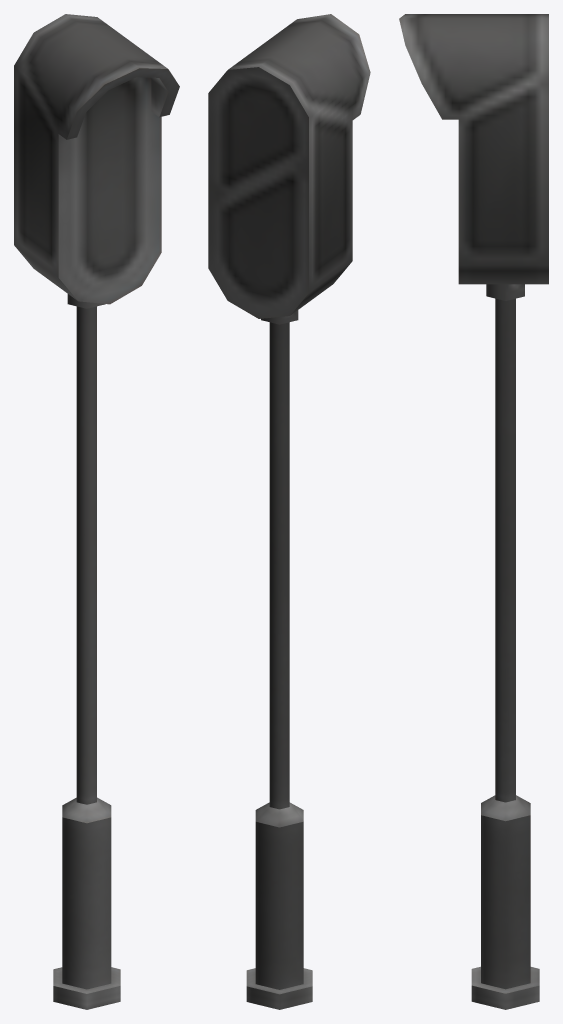
Rendered from Semaphore_2.FBX.
The picture shows the model from 3 angles, left to right: view 1: azimuth 30°, elevation 25°; view 2: azimuth 150°, elevation 25°; view 3: azimuth 270°, elevation 25°; orthographic projection. The views are drawn at different scales.
Parts seen in each view (by area): view 1: Semaphore_2; view 2: Semaphore_2; view 3: Semaphore_2.
Boxes of the visible parts, <box> form: Semaphore_2: <box>14,14,179,1009</box>; Semaphore_2: <box>208,14,370,1009</box>; Semaphore_2: <box>399,14,548,1009</box>.
Bounding box in the file's own units: 121 × 1079 × 150.
